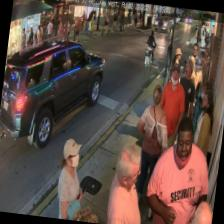person: (140, 111, 216, 224), (125, 81, 173, 219), (150, 62, 190, 170), (104, 141, 150, 224), (166, 56, 198, 171), (184, 86, 216, 198), (52, 136, 90, 220)
